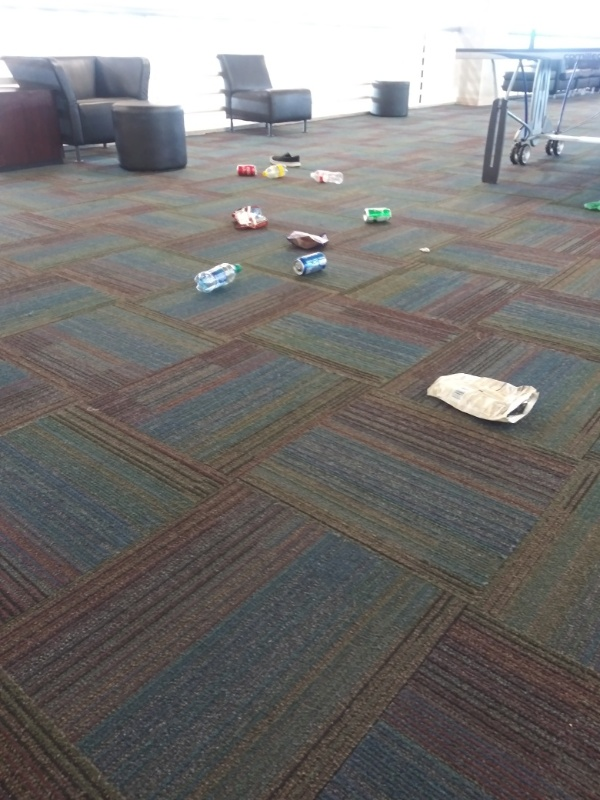bag: (420, 369, 544, 427), (226, 203, 275, 234), (284, 227, 332, 252)
bottle: (191, 259, 248, 297), (302, 167, 349, 190), (259, 159, 291, 182)
can: (288, 249, 336, 280), (357, 201, 399, 226), (231, 161, 259, 178)
